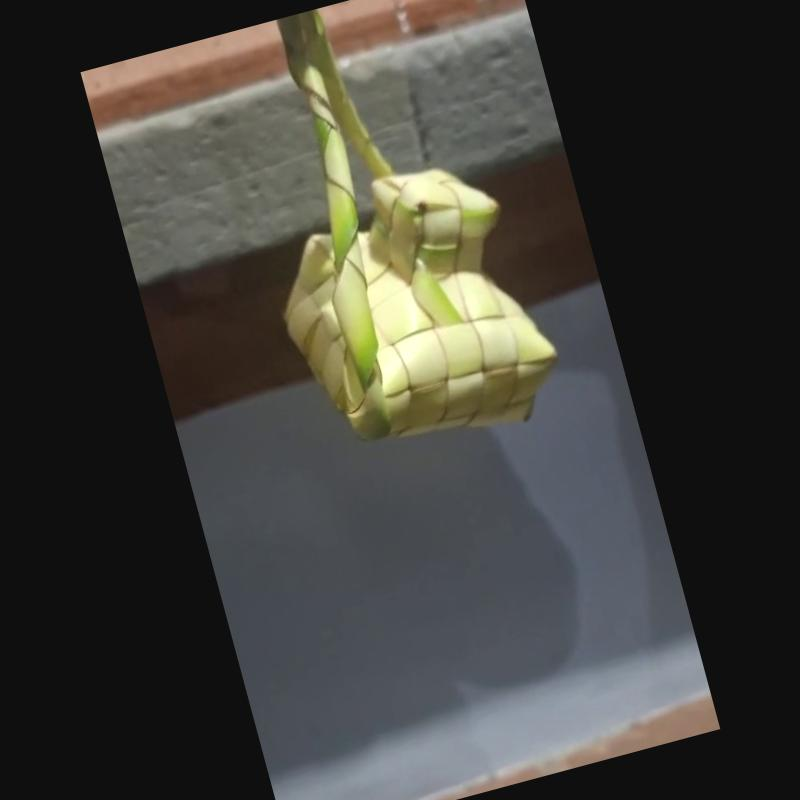Tipat Gong: (281, 7, 558, 437), (276, 19, 334, 234)
